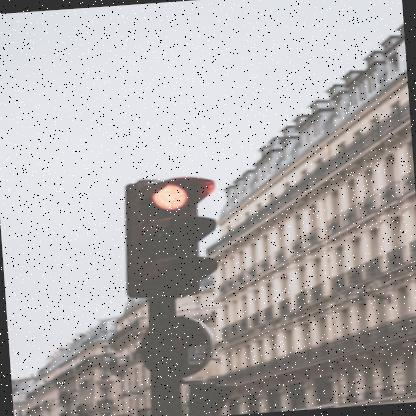trafficlight: (114, 170, 220, 301)
